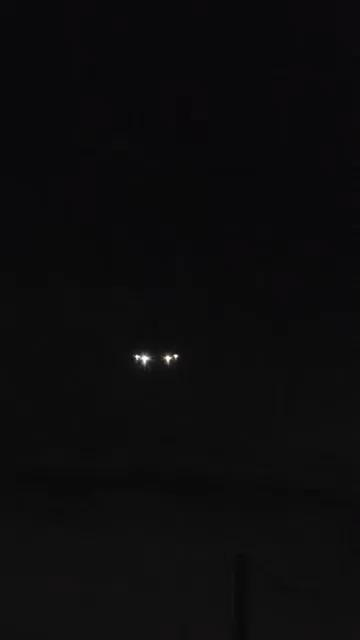Plane: (110, 314, 203, 399)
